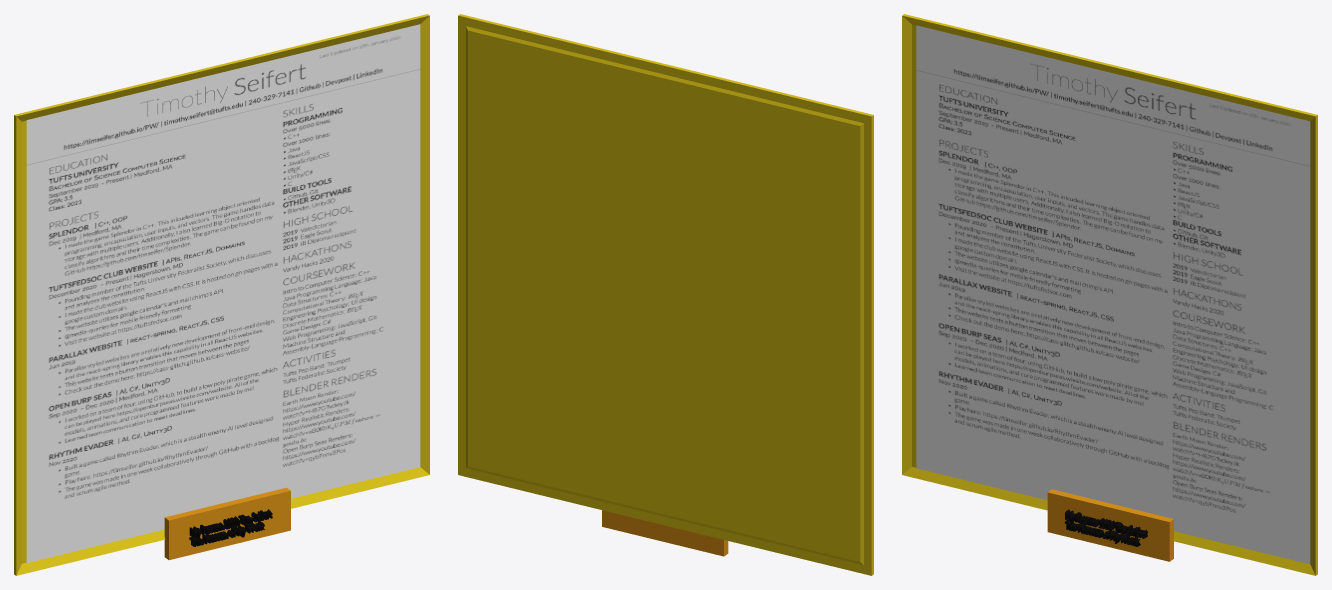
The model's file is Official_Resume.glb.
The picture shows the model from 3 angles, left to right: view 1: azimuth 30°, elevation 25°; view 2: azimuth 150°, elevation 25°; view 3: azimuth 330°, elevation 25°; orthographic projection.
Parts seen in each view (by area): view 1: Material.004, Cube, Cube.001, Text; view 2: Cube, Cube.001; view 3: Material.004, Cube, Cube.001, Text.
Part boxes in pixels (x1,y1,x2,y2): Material.004: [26, 24, 420, 562]; Cube: [14, 14, 429, 575]; Cube.001: [164, 487, 290, 559]; Text: [189, 509, 272, 546]; Cube: [458, 14, 873, 575]; Cube.001: [602, 510, 728, 556]; Material.004: [916, 25, 1310, 564]; Cube: [902, 14, 1317, 575]; Cube.001: [1047, 489, 1173, 561]; Text: [1064, 509, 1147, 546].
Size of the model in its own units: 196 by 217 by 8.52.
4 materials, 1 textured.
